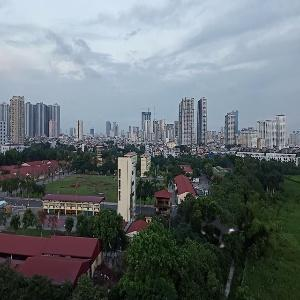drone: (188, 198, 254, 264)
